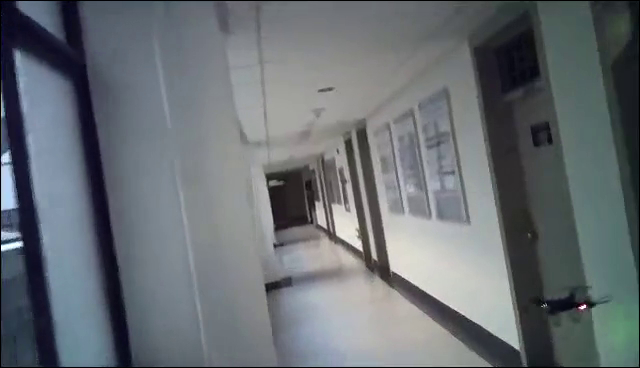drone: (517, 281, 617, 326)
